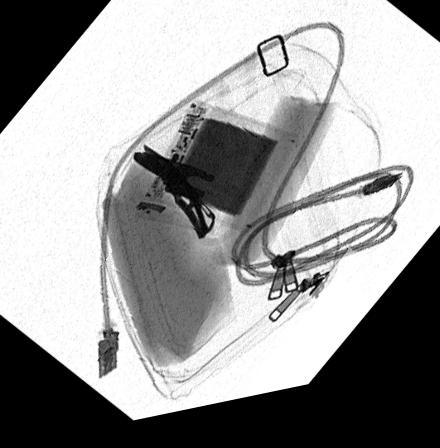Knife: (145, 147, 217, 249)
Powerbank: (145, 105, 303, 242)
Scissors: (129, 151, 270, 257)
